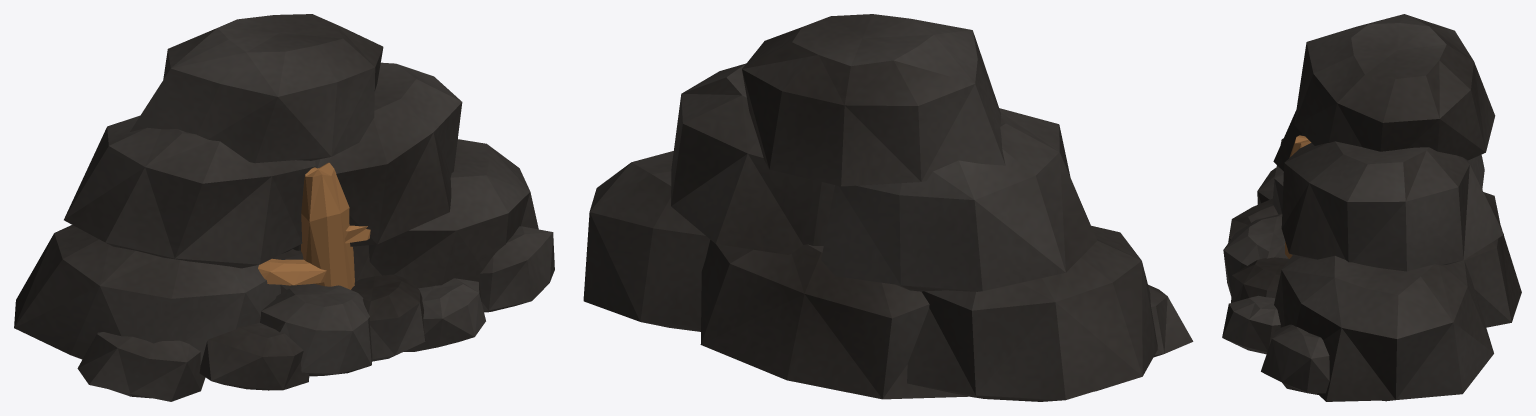
The model's file is HeavyDepositB.fbx.
3 views of the same model, side by side, from view 1: azimuth 30°, elevation 25°; view 2: azimuth 150°, elevation 25°; view 3: azimuth 270°, elevation 25° (orthographic). The views are drawn at different scales.
Visible parts, largest first — view 1: DenseMineral_Deposit_B_LOD0; view 2: DenseMineral_Deposit_B_LOD0; view 3: DenseMineral_Deposit_B_LOD0.
Part boxes in pixels (left/top/right/bottom): DenseMineral_Deposit_B_LOD0: left=14, top=14, right=554, bottom=401; DenseMineral_Deposit_B_LOD0: left=583, top=14, right=1193, bottom=401; DenseMineral_Deposit_B_LOD0: left=1222, top=14, right=1521, bottom=401.
Size of what is drawn, in the model's own units: 58193 by 32108 by 32536.
